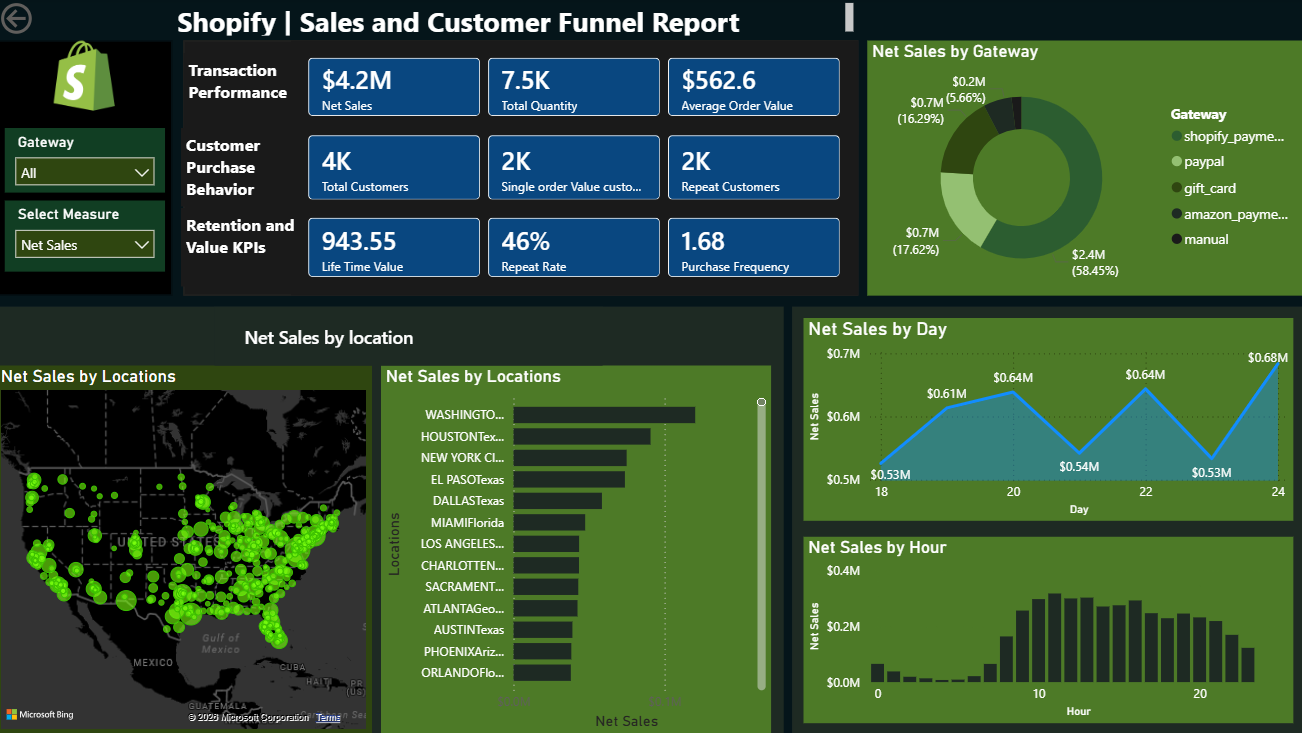

What the dashboard file says about the page in this screenshot:
{"tool":"powerbi","page":{"name":"Page 1","canvas":[1280,720],"ordinal":0},"visuals":[{"type":"shape","box":[0,302,770.4,418.2],"z":0},{"type":"textbox","box":[172.4,0,671.3,41.6],"z":1000},{"type":"shape","box":[0,41.6,172.4,249.5],"z":2000},{"type":"shape","box":[183.4,41.6,660.3,249.5],"z":3000},{"type":"cardVisual","fields":{"Data":["shopify_sales.Net Sales","shopify_sales.Total Quantity","shopify_sales.Average Order Value"]},"box":[288.6,41.6,555.2,91.7],"z":4000},{"type":"textbox","box":[183.4,53.8,116.2,77],"z":5000},{"type":"cardVisual","fields":{"Data":["shopify_sales.Total Customers","shopify_sales.Single order Value customers","shopify_sales.Repeat Customers"]},"box":[288.6,117.4,555.2,97.8],"z":6000},{"type":"textbox","box":[181,127.2,122.3,77],"z":7000},{"type":"cardVisual","fields":{"Data":["shopify_sales.Life Time Value","shopify_sales.Repeat Rate","shopify_sales.Purchase Frequency"]},"box":[288.6,198.1,555.2,92.9],"z":8000},{"type":"textbox","box":[181,205.4,122.3,77],"z":9000},{"type":"slicer","fields":{"Values":["Select Measure.Select Measure"]},"box":[8.6,198.1,156.5,69.7],"z":10000},{"type":"map","fields":{"Size":["shopify_sales.Total Quantity"],"Category":["shopify_sales.Locations"]},"box":[0,359.5,366.8,360.7],"z":11000},{"type":"clusteredBarChart","fields":{"Y":["shopify_sales.Total Quantity"],"Category":["shopify_sales.Locations"]},"box":[376.6,359.5,381.5,360.7],"z":12000},{"type":"cardVisual","fields":{"Data":["Select Measure.Locations title"]},"box":[214,302,379.1,57.5],"z":13000},{"type":"shape","box":[778.9,302,501.4,418.2],"z":14000},{"type":"areaChart","fields":{"Y":["shopify_sales.Total Quantity"],"Category":["shopify_sales.Invoice Date.Variation.Date Hierarchy.Day"]},"box":[789.9,313,479.4,198.1],"z":15000},{"type":"columnChart","fields":{"Y":["shopify_sales.Total Quantity"],"Category":["shopify_sales.Hour"]},"box":[789.9,527,479.4,182.2],"z":16000},{"type":"donutChart","fields":{"Y":["shopify_sales.Total Quantity"],"Category":["shopify_sales.Gateway"]},"box":[852.3,41.6,428,249.5],"z":17000},{"type":"slicer","fields":{"Values":["shopify_sales.Gateway"]},"box":[8.6,127.2,156.5,63.6],"z":18000},{"type":"image","box":[19.6,41.6,133.3,68.5],"z":19000}]}

Visuals, with their boxes in screenshot pixels (x1, y1, x2, y2), scaled from the page's 1280x720 canvas onto the 1302x733 screenshot:
shape: select_region(0, 307, 784, 732)
textbox: select_region(175, 0, 858, 42)
shape: select_region(0, 42, 175, 296)
shape: select_region(187, 42, 858, 296)
cardVisual - shopify_sales.Net Sales x shopify_sales.Total Quantity: select_region(294, 42, 858, 136)
textbox: select_region(187, 55, 305, 133)
cardVisual - shopify_sales.Total Customers x shopify_sales.Single order Value customers: select_region(294, 120, 858, 219)
textbox: select_region(184, 129, 309, 208)
cardVisual - shopify_sales.Life Time Value x shopify_sales.Repeat Rate: select_region(294, 202, 858, 296)
textbox: select_region(184, 209, 309, 287)
slicer - Select Measure.Select Measure: select_region(9, 202, 168, 273)
map - shopify_sales.Total Quantity x shopify_sales.Locations: select_region(0, 366, 373, 732)
clusteredBarChart - shopify_sales.Total Quantity x shopify_sales.Locations: select_region(383, 366, 771, 732)
cardVisual - Select Measure.Locations title: select_region(218, 307, 603, 366)
shape: select_region(792, 307, 1301, 732)
areaChart - shopify_sales.Total Quantity x shopify_sales.Invoice Date.Variation.Date Hierarchy.Day: select_region(803, 319, 1291, 520)
columnChart - shopify_sales.Total Quantity x shopify_sales.Hour: select_region(803, 537, 1291, 722)
donutChart - shopify_sales.Total Quantity x shopify_sales.Gateway: select_region(867, 42, 1301, 296)
slicer - shopify_sales.Gateway: select_region(9, 129, 168, 194)
image: select_region(20, 42, 156, 112)
